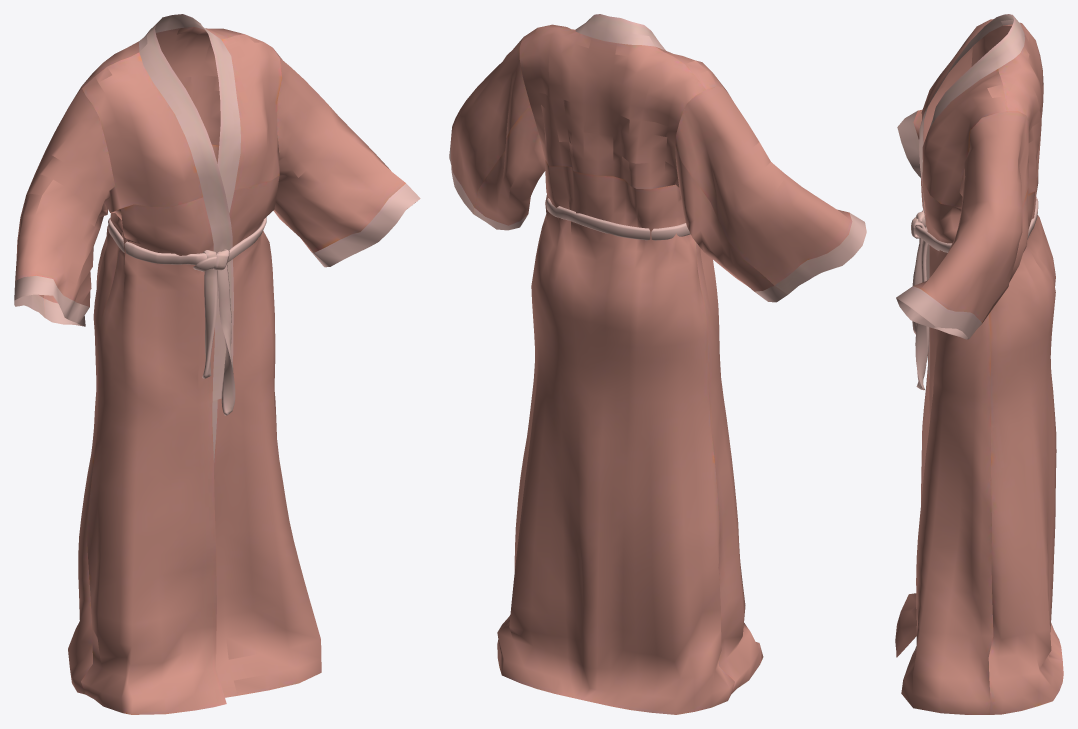
The model's file is mindfront-kimono.glb.
3 renders of one model, left to right at view 1: azimuth 30°, elevation 25°; view 2: azimuth 150°, elevation 25°; view 3: azimuth 270°, elevation 25°, orthographic. The views are drawn at different scales.
Parts seen in each view (by area): view 1: kimono; view 2: kimono; view 3: kimono.
Boxes of the visible parts, bbox=[...] form: kimono: bbox=[14, 14, 420, 714]; kimono: bbox=[449, 14, 866, 714]; kimono: bbox=[895, 14, 1063, 714].
Bounding box in the file's own units: 91.19 × 140 × 33.46.
Materials: 1 (1 with a texture image).
